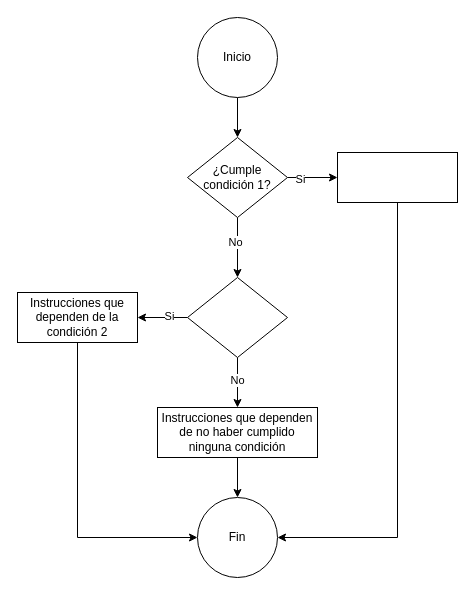
Image size: 475x595. Some labels were removed from this diagram. Here are the shapes that lost their labels. From the top down, the box of each, then its label:
(336, 152, 458, 202): Instrucciones que dependen de la condición 1
(186, 276, 288, 358): ¿Cumple condición 2?
